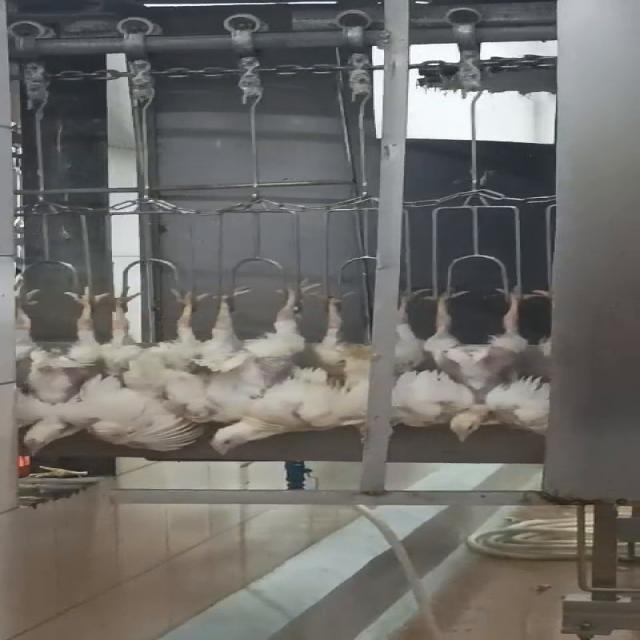chicken: (183, 276, 331, 454), (402, 276, 554, 448), (9, 268, 133, 462), (92, 284, 214, 454), (309, 279, 395, 432)
